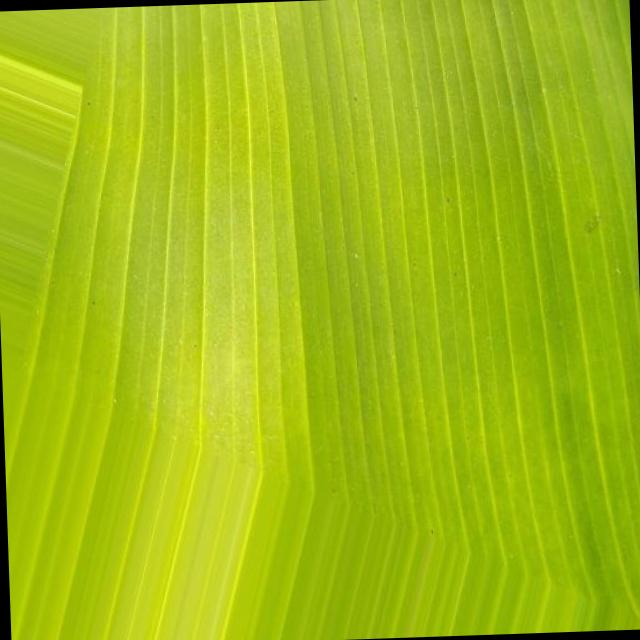Banana_Healthy: (0, 2, 640, 636)
